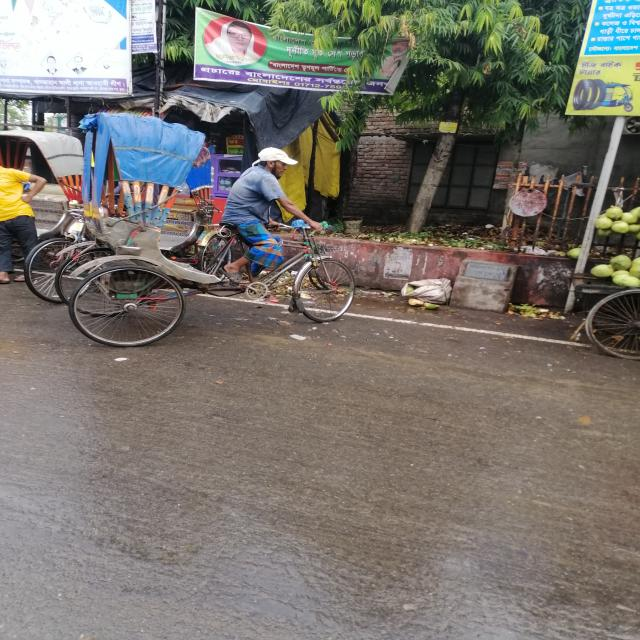Rickshaw: (61, 114, 358, 350)
